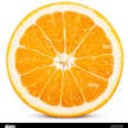orange: (5, 1, 128, 128)
